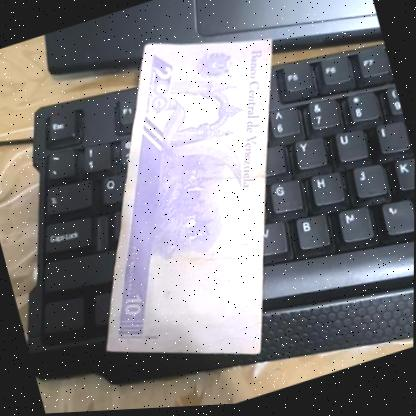ten-back-vef: (31, 5, 350, 404)
